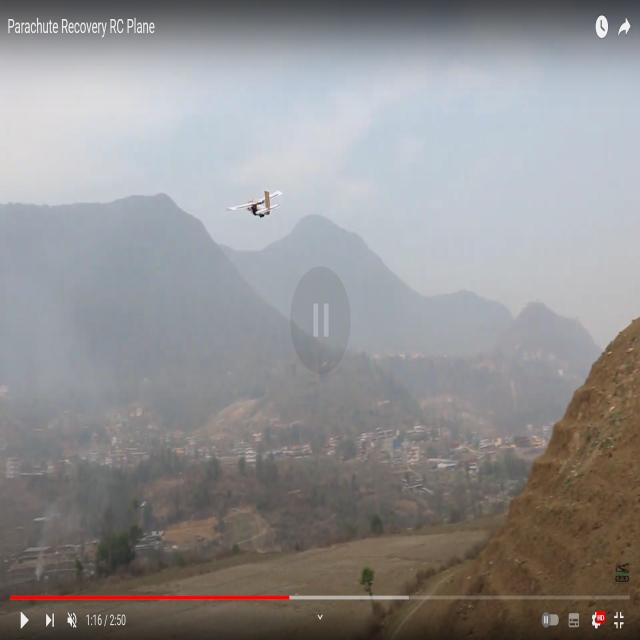iha: (231, 180, 282, 214)
